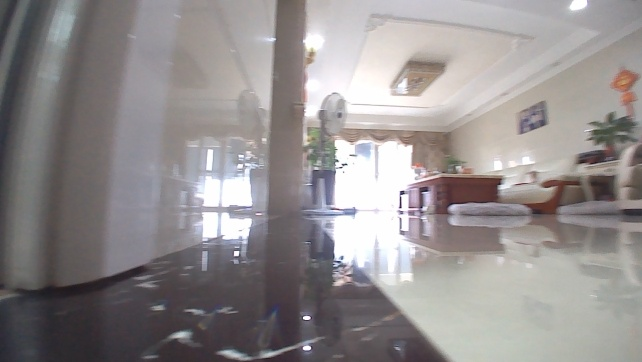chair_base: (300, 203, 345, 216)
sofa1: (500, 159, 585, 215)
tea_table: (402, 170, 505, 214)
